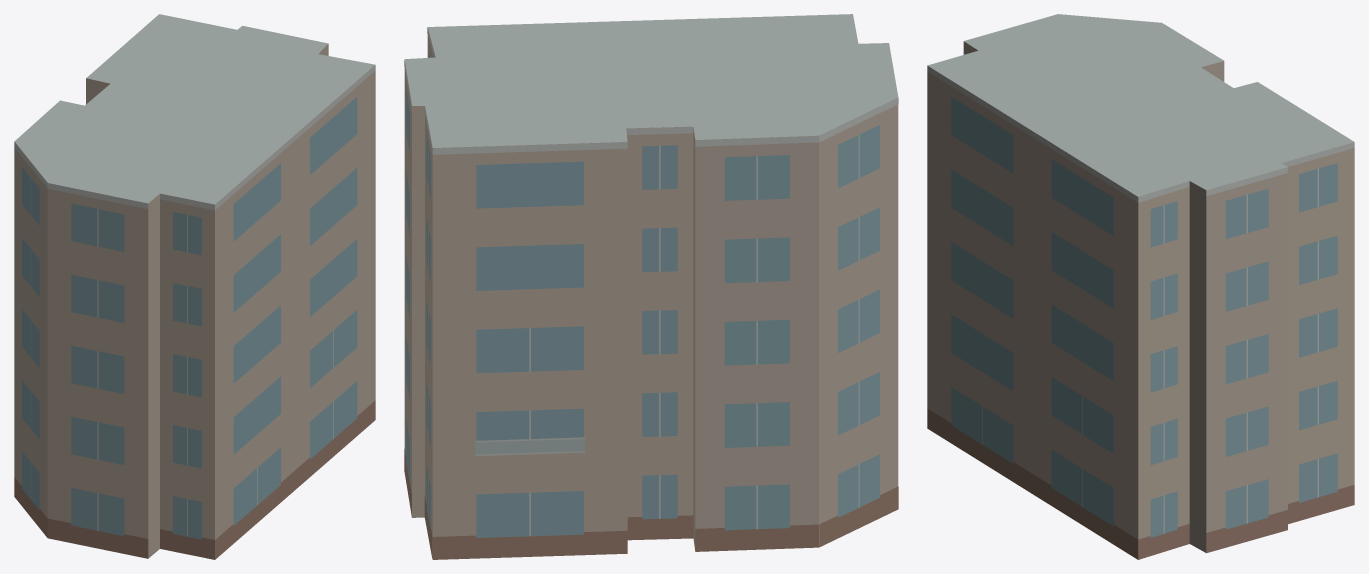
Rendered from survey-upis-32842085.glb.
The picture shows the model from 3 angles, left to right: view 1: azimuth 30°, elevation 25°; view 2: azimuth 150°, elevation 25°; view 3: azimuth 270°, elevation 25°; orthographic projection. The views are drawn at different scales.
Visible parts, largest first — view 1: survey-upis-32842085.tmp; view 2: survey-upis-32842085.tmp; view 3: survey-upis-32842085.tmp.
Part boxes in pixels (x1,y1,x2,y2): survey-upis-32842085.tmp: [14, 14, 375, 559]; survey-upis-32842085.tmp: [404, 14, 898, 559]; survey-upis-32842085.tmp: [927, 14, 1354, 559].
Bounding box in the file's own units: 16.23 × 15 × 16.02.
